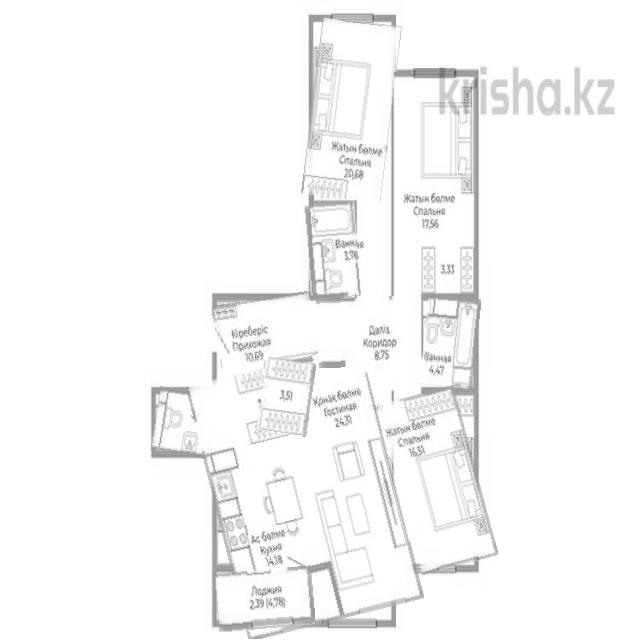balcony: (215, 567, 314, 630)
bathroom: (422, 295, 479, 388), (305, 203, 360, 299), (153, 388, 218, 457)
hallway: (317, 296, 421, 367), (214, 295, 316, 365)
living_room: (394, 72, 480, 292), (387, 388, 488, 572), (306, 19, 398, 201)
other: (260, 359, 314, 436)
studio: (208, 343, 421, 617)
